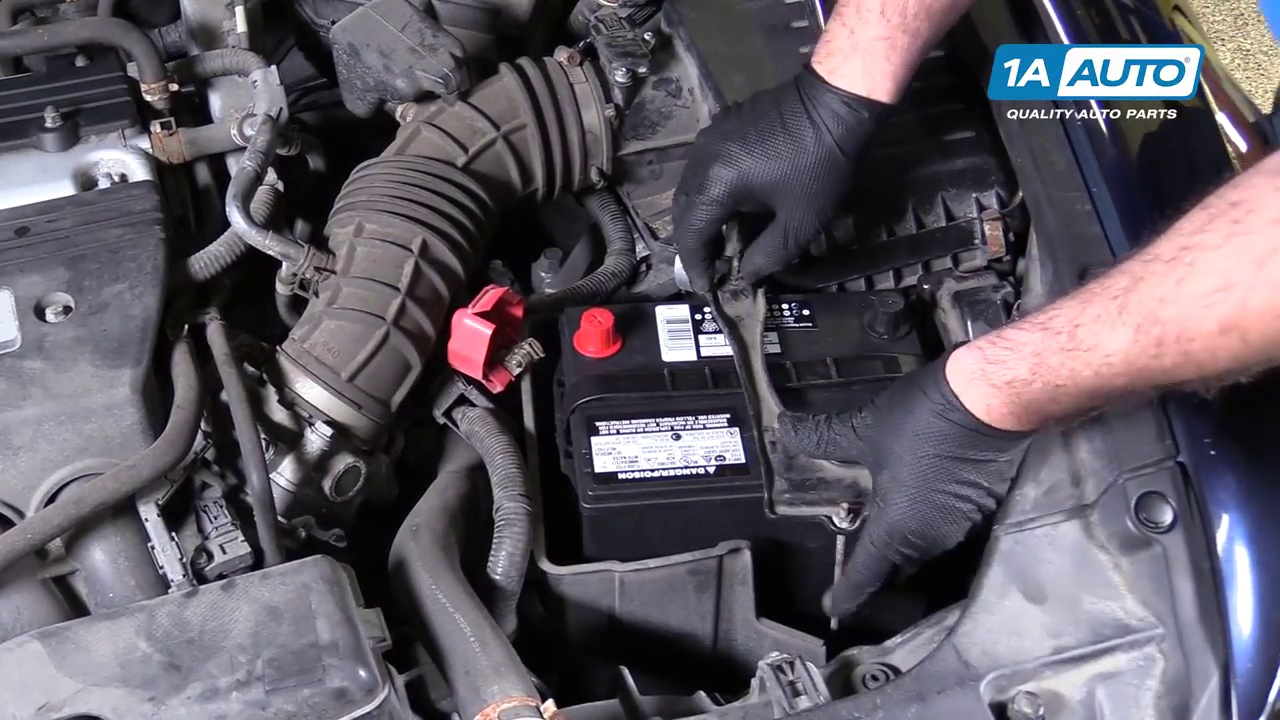battery: (557, 298, 933, 521)
pos_disconnected: (440, 268, 646, 398)
